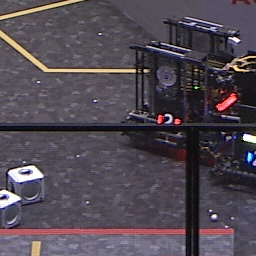Blue: (246, 149, 256, 167)
Red: (156, 112, 180, 130)
Robot: (122, 13, 242, 156), (215, 54, 256, 185)
